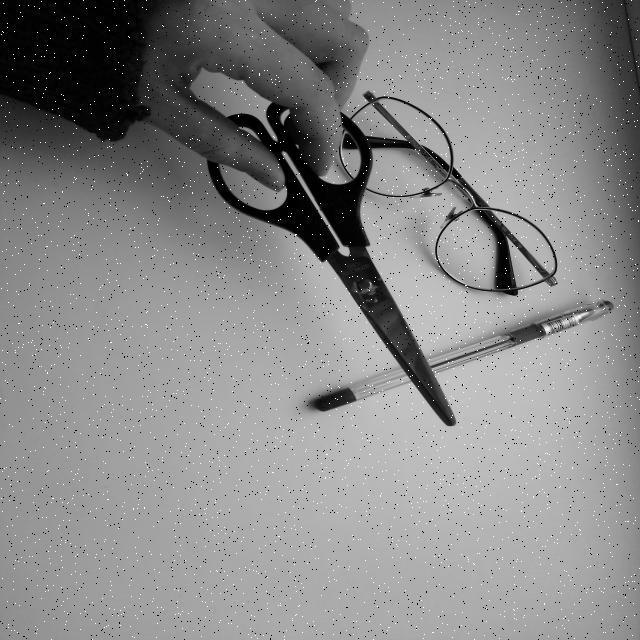scissors: (201, 75, 471, 447)
